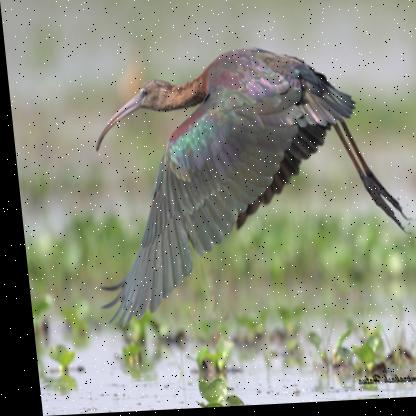Burung: (82, 41, 413, 331)
